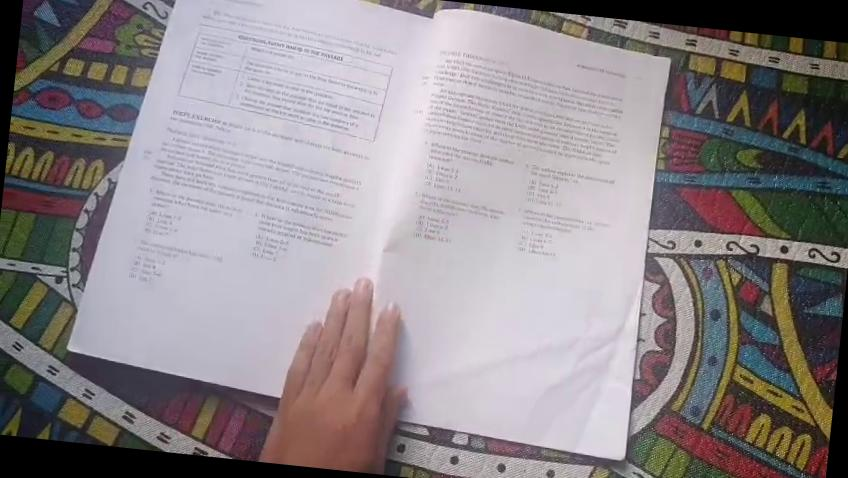Kertas: (379, 10, 668, 457), (69, 0, 390, 395)
